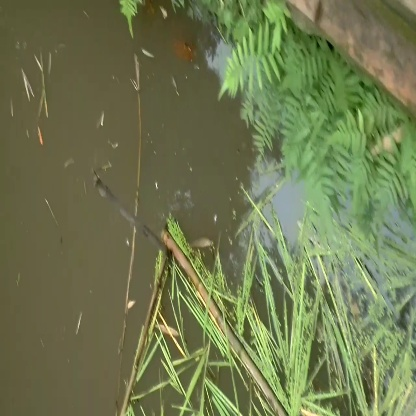branch: (164, 233, 296, 416)
